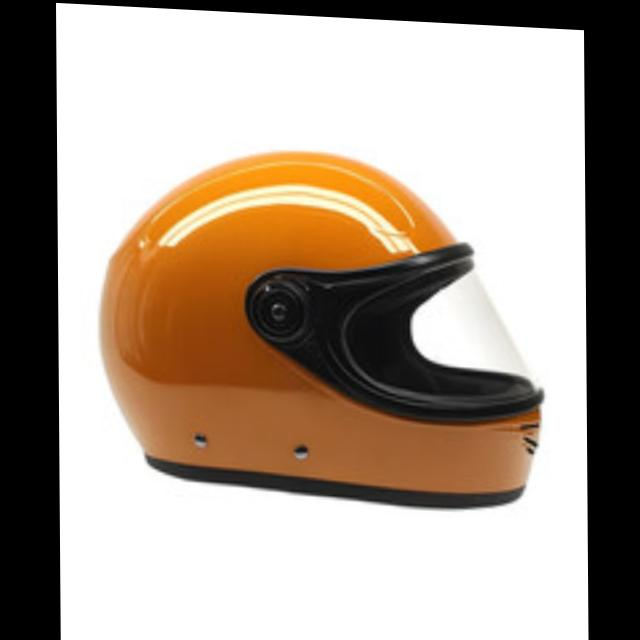motorcycle-helmets: (89, 134, 554, 521)
